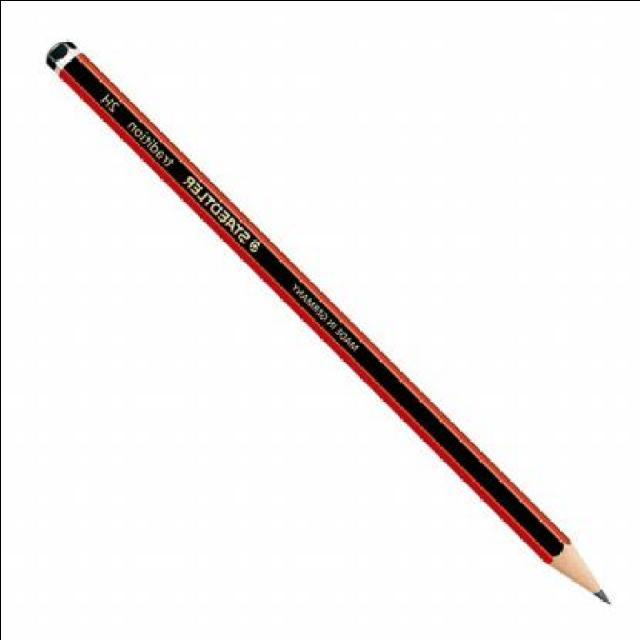pencil: (525, 517, 617, 608)
